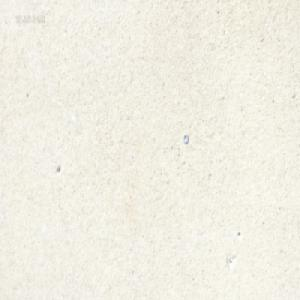Washer: (182, 133, 188, 144)
